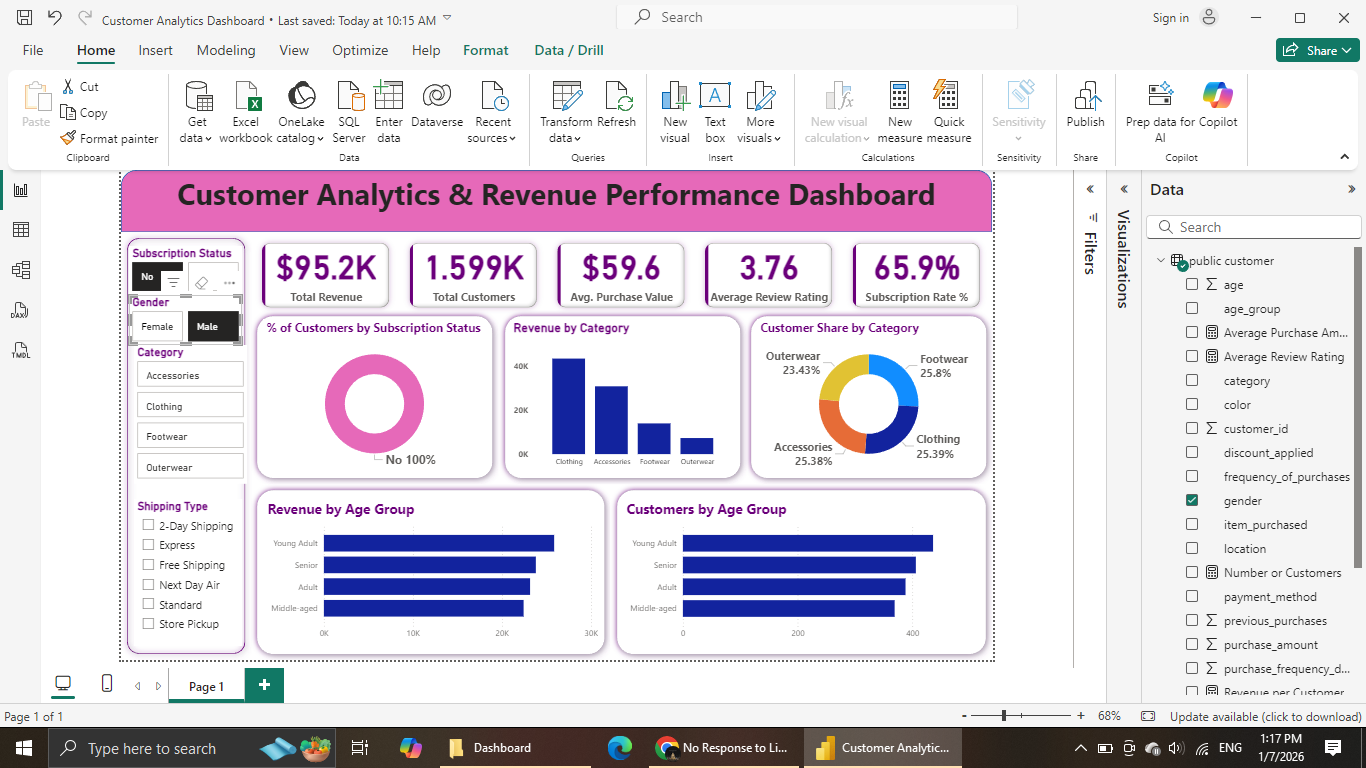

This screenshot's page, from the dashboard's own definition file:
{"tool":"powerbi","page":{"name":"Page 1","canvas":[1280,720],"ordinal":0},"visuals":[{"type":"cardVisual","fields":{"Data":["public customer.Total Revenue","public customer.Number or Customers","public customer.Average Purchase Amount","public customer.Average Review Rating","public customer.Subscription Rate %"]},"box":[191,91.1,1088.8,127.8],"z":0},{"type":"shape","box":[0,0,1280,91.3],"z":1000},{"type":"textbox","box":[0,0,1279.8,77.9],"z":2000},{"type":"shape","box":[191.6,205.1,363.8,256],"z":3000},{"type":"donutChart","title":"% of Customers by Subscription Status","fields":{"Y":["CountNonNull(public customer.customer_id)"],"Category":["public customer.subscription_status"]},"box":[208.7,218.9,327.7,226.3],"z":4000},{"type":"shape","box":[191.6,461.1,528.5,259],"z":5000},{"type":"shape","box":[916.2,205.1,363.8,256],"z":6000},{"type":"shape","box":[555.4,205.1,363.8,256],"z":7000},{"type":"shape","box":[720.1,461.1,559.9,259],"z":8000},{"type":"clusteredColumnChart","title":"Revenue by Category","fields":{"Y":["Sum(public customer.purchase_amount)"],"Category":["public customer.category"]},"box":[571.9,220.1,330.9,226.1],"z":9000},{"type":"donutChart","title":"Customer Share by Category","fields":{"Category":["public customer.category"],"Y":["public customer.Revenue per Customer"]},"box":[935,219.4,328.3,227],"z":10000},{"type":"shape","box":[0,91.3,191.6,628.8],"z":11000},{"type":"advancedSlicerVisual","fields":{"Values":["public customer.subscription_status"]},"box":[12,112.3,166.2,71.9],"z":12000},{"type":"advancedSlicerVisual","fields":{"Values":["public customer.gender"]},"box":[12,184.1,166.2,73.4],"z":13000},{"type":"advancedSlicerVisual","fields":{"Values":["public customer.category"]},"box":[19.1,257.1,166,204.2],"z":14000},{"type":"slicer","title":"Shipping Type","fields":{"Values":["public customer.shipping_type"]},"box":[19.5,483.6,158.7,215.6],"z":15000},{"type":"clusteredBarChart","title":"Revenue by Age Group","fields":{"Y":["Sum(public customer.purchase_amount)"],"Category":["public customer.age_group"]},"box":[209.6,483.6,495.5,215.6],"z":16000},{"type":"clusteredBarChart","title":"Customers by Age Group","fields":{"Y":["CountNonNull(public customer.customer_id)"],"Category":["public customer.age_group"]},"box":[737.6,483.4,524.6,216],"z":17000}]}

Visuals, with their boxes on the page's 1280x720 design canvas (x1, y1, x2, y2). These are canvas units, not pixel positions in the 1366x768 screenshot, which may show the page scaled, cropped or inside an application window:
cardVisual - public customer.Total Revenue x public customer.Number or Customers: bbox(191, 91, 1280, 219)
shape: bbox(0, 0, 1280, 91)
textbox: bbox(0, 0, 1280, 78)
shape: bbox(192, 205, 555, 461)
"% of Customers by Subscription Status" donutChart: bbox(209, 219, 536, 445)
shape: bbox(192, 461, 720, 720)
shape: bbox(916, 205, 1280, 461)
shape: bbox(555, 205, 919, 461)
shape: bbox(720, 461, 1280, 720)
"Revenue by Category" clusteredColumnChart: bbox(572, 220, 903, 446)
"Customer Share by Category" donutChart: bbox(935, 219, 1263, 446)
shape: bbox(0, 91, 192, 720)
advancedSlicerVisual - public customer.subscription_status: bbox(12, 112, 178, 184)
advancedSlicerVisual - public customer.gender: bbox(12, 184, 178, 258)
advancedSlicerVisual - public customer.category: bbox(19, 257, 185, 461)
"Shipping Type" slicer: bbox(20, 484, 178, 699)
"Revenue by Age Group" clusteredBarChart: bbox(210, 484, 705, 699)
"Customers by Age Group" clusteredBarChart: bbox(738, 483, 1262, 699)
